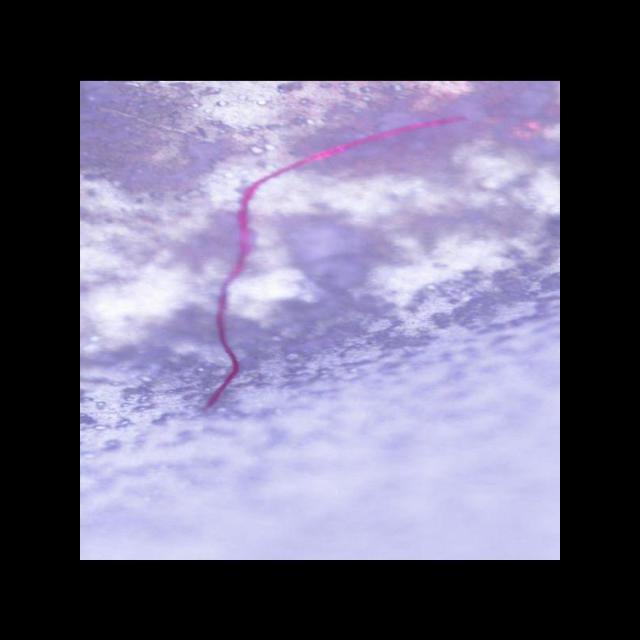Fibre: (200, 114, 468, 410)
